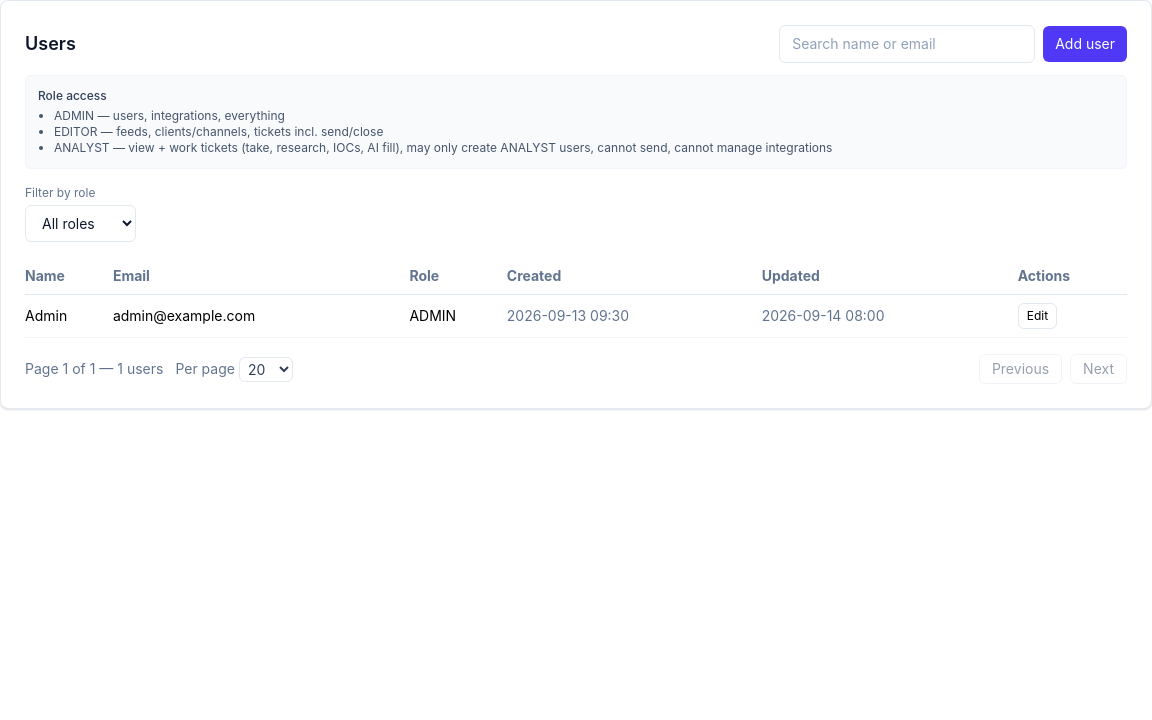
Test case: FE-USR-01: users administration › disables the role select with a note when editing your own row
Expected: the text "admin@example.com" is shown, [113,294,410,338]
Click the button "Edit".
click(1037, 316)  # box [1018,303,1057,329]
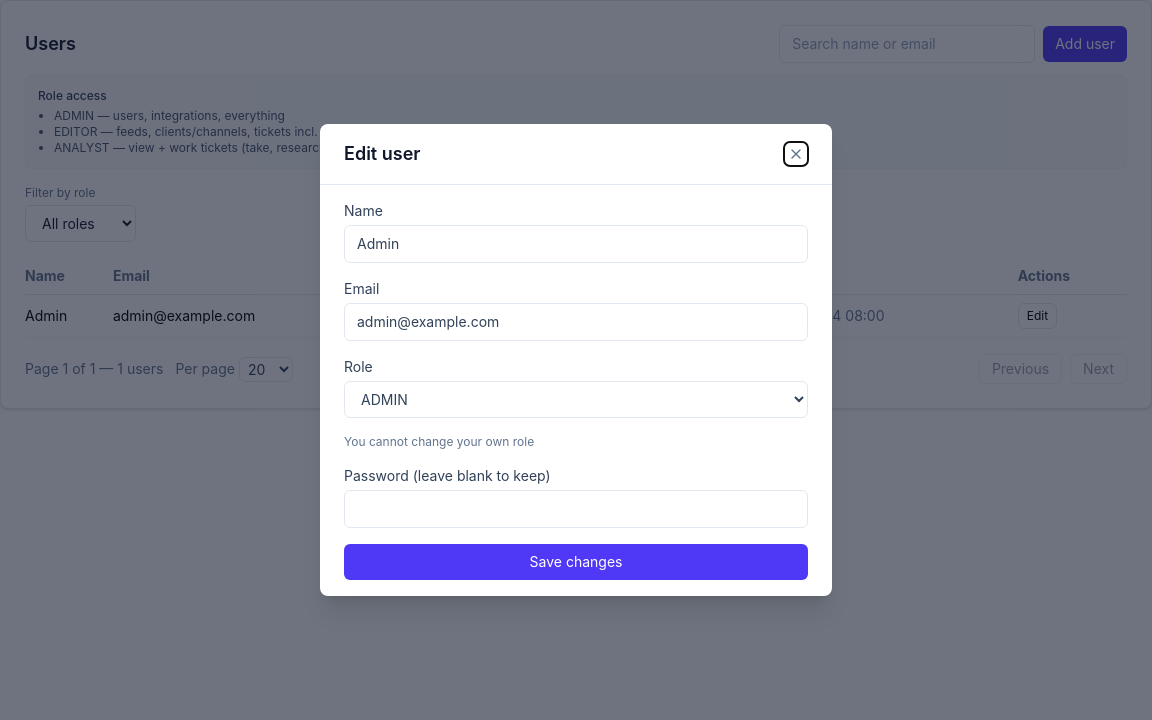
Expected: the dropdown labelled "Role" is disabled, [344,381,808,418]
Expected: the text "You cannot change your own role" is shown, [344,434,534,449]
Expected: the field labelled "Name" is enabled, [344,225,808,263]
